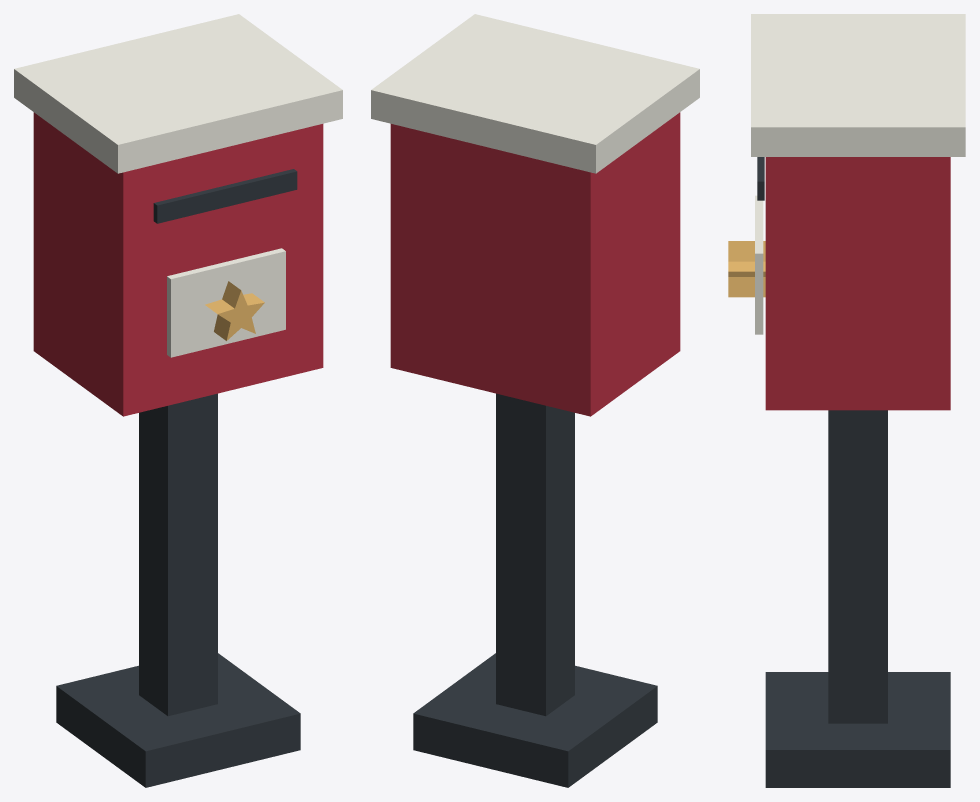
File: three-d-christmas-village-christmas-village-letters-mailbox-85109f2d.glb
3 renders of one model, left to right at view 1: azimuth 30°, elevation 25°; view 2: azimuth 150°, elevation 25°; view 3: azimuth 270°, elevation 25°, orthographic. The views are drawn at different scales.
Parts seen in each view (by area): view 1: letters-mailbox; view 2: letters-mailbox; view 3: letters-mailbox.
Boxes of the visible parts, x1,y1,x2,y2 form: letters-mailbox: [14, 14, 342, 787]; letters-mailbox: [371, 14, 699, 787]; letters-mailbox: [728, 14, 965, 787].
Size of the model in its own units: 0.45 by 1.25 by 0.3975.
